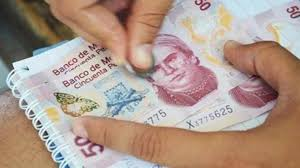billete: (25, 1, 300, 168)
